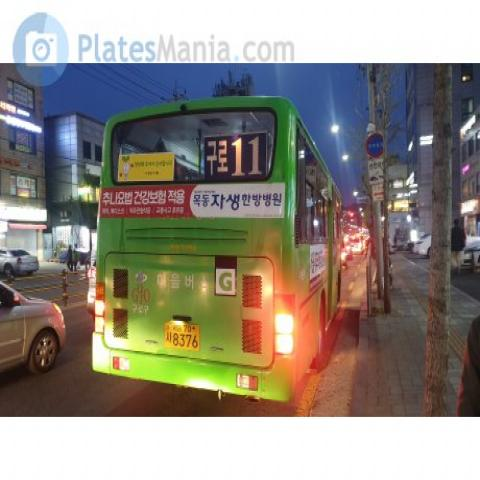LP: (161, 318, 210, 357)
